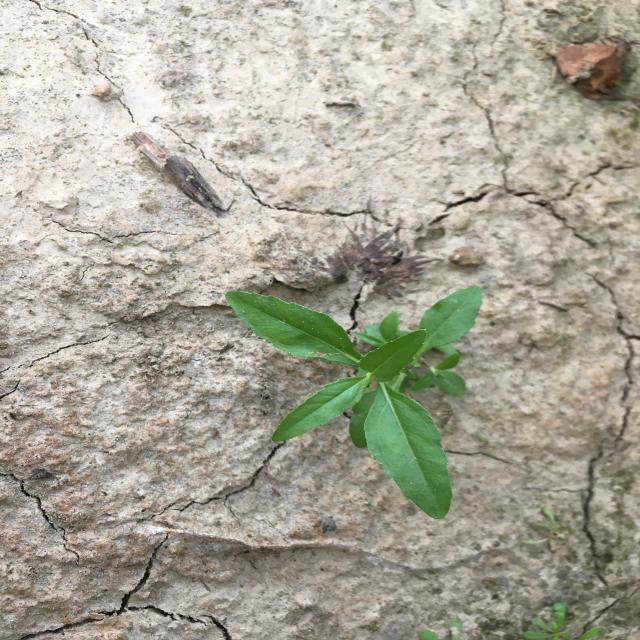Eclipta: (222, 284, 484, 522)
